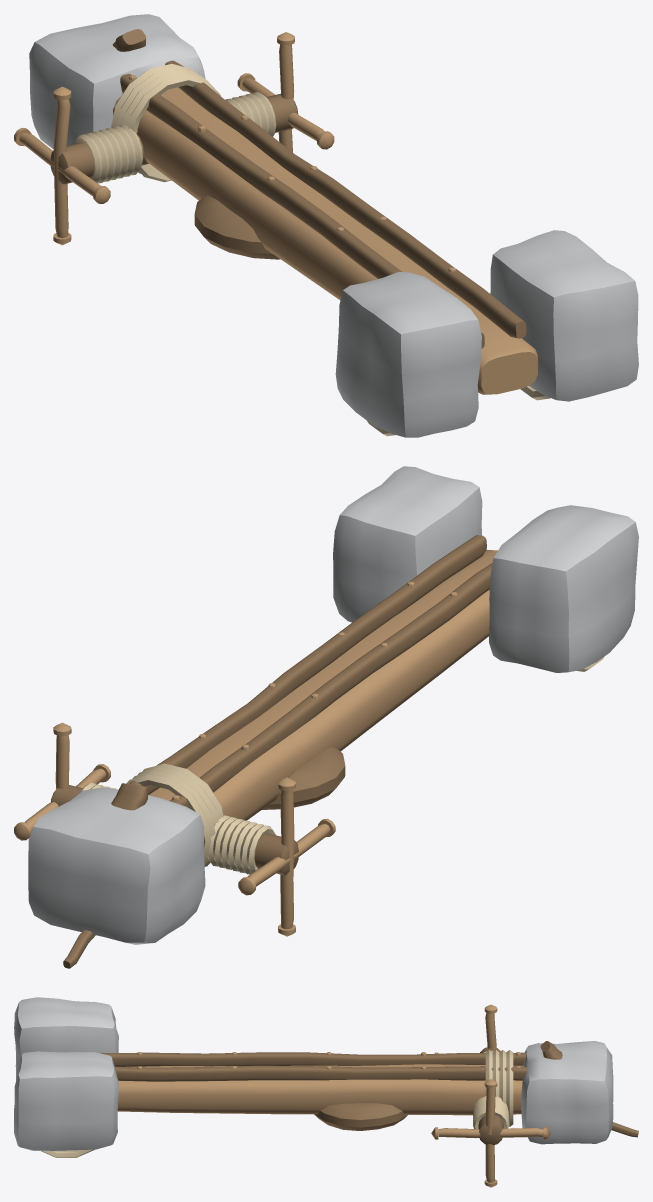
File: CrossbowHead.fbx
The picture shows the model from 3 angles, top to bottom: view 1: azimuth 30°, elevation 25°; view 2: azimuth 150°, elevation 25°; view 3: azimuth 270°, elevation 25°; orthographic projection. The views are drawn at different scales.
Visible parts, largest first — view 1: CrossbowHead; view 2: CrossbowHead; view 3: CrossbowHead.
Part boxes in pixels (x1,y1,x2,y2): CrossbowHead: (14,14,638,437); CrossbowHead: (14,466,638,968); CrossbowHead: (14,997,638,1187).
Bounding box in the file's own units: 0.9352 × 0.6157 × 2.97.
